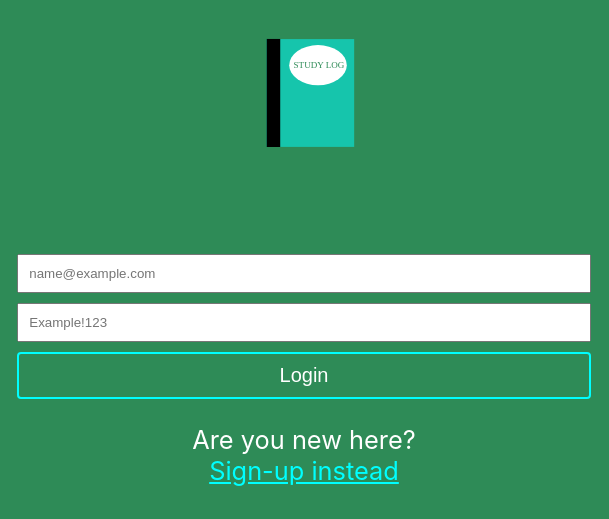
Login Page › blocks failed login when the email format is wrong
Type "s.addict!@test.com" into the field with test id "email-input". click: (304, 274)
box: [17,254,590,293]
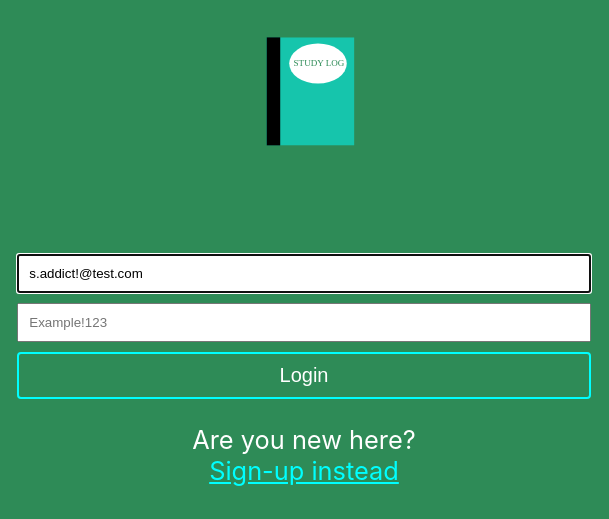
Type "bookworm" into the password field with test id "password-input". click: (304, 323)
box: [17,303,590,342]
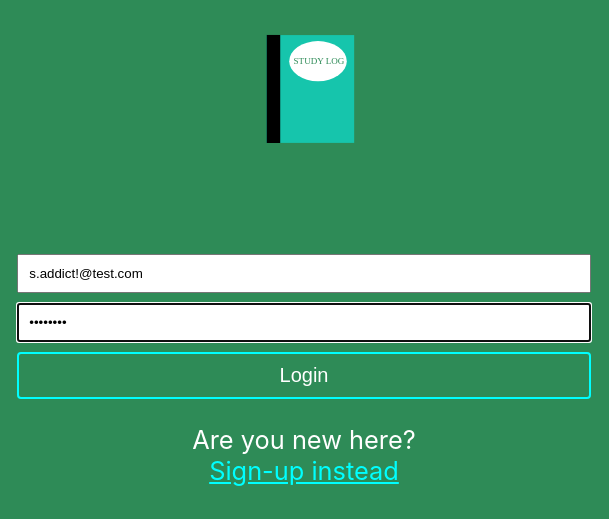
Click the button "Login". click: click(304, 376)
box: [17,352,590,399]
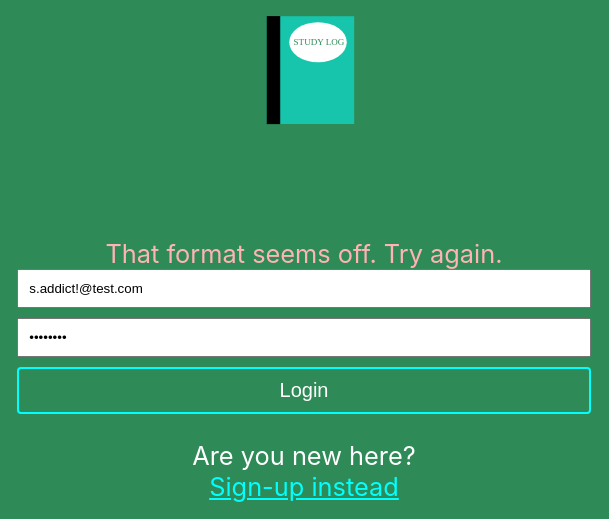
Result: the text "That format seems off. Try again." is shown at [105,238,502,269]
